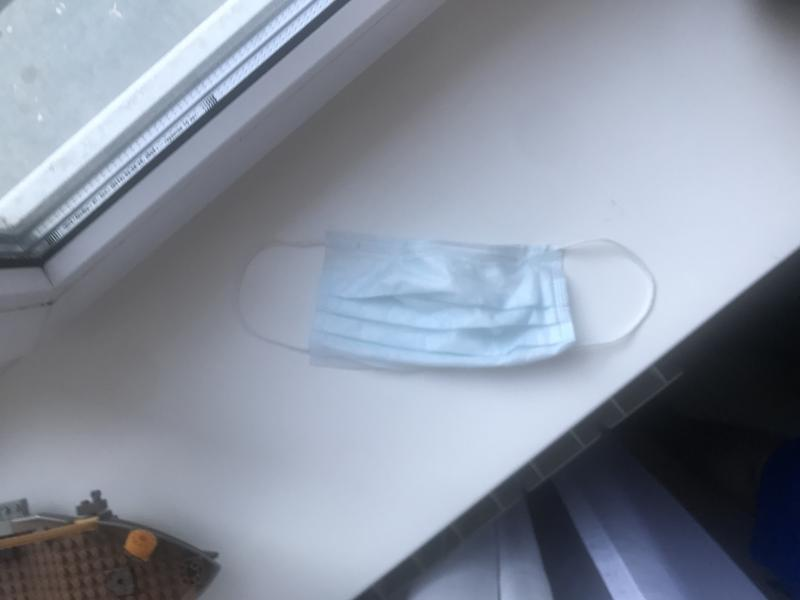medical_mask: (233, 230, 657, 369)
